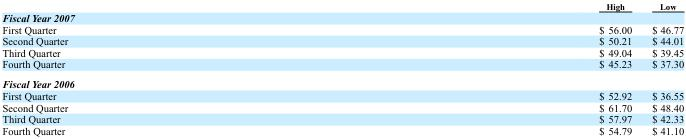table: (1, 0, 683, 135)
table column: (1, 0, 332, 135), (332, 0, 641, 135), (641, 0, 683, 135)
table column header: (1, 0, 683, 11)
table projected row header: (1, 73, 683, 89), (1, 11, 683, 23)
table row: (1, 57, 683, 73), (1, 73, 683, 89), (1, 11, 683, 23), (1, 34, 683, 46), (1, 89, 683, 101), (1, 112, 683, 124), (1, 0, 683, 11), (1, 23, 683, 34), (1, 46, 683, 57), (1, 101, 683, 112), (1, 124, 683, 135)
